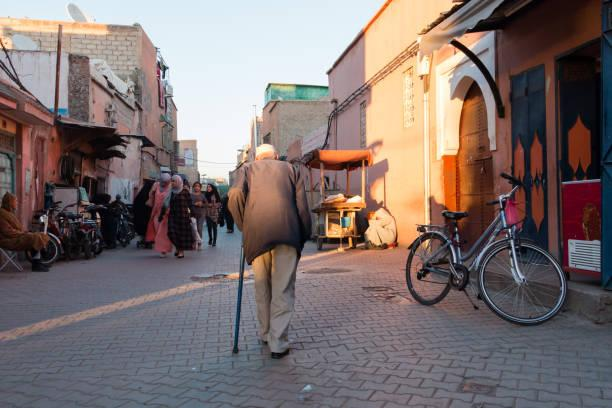Human: (229, 144, 326, 379), (142, 168, 195, 267), (202, 178, 221, 250)
